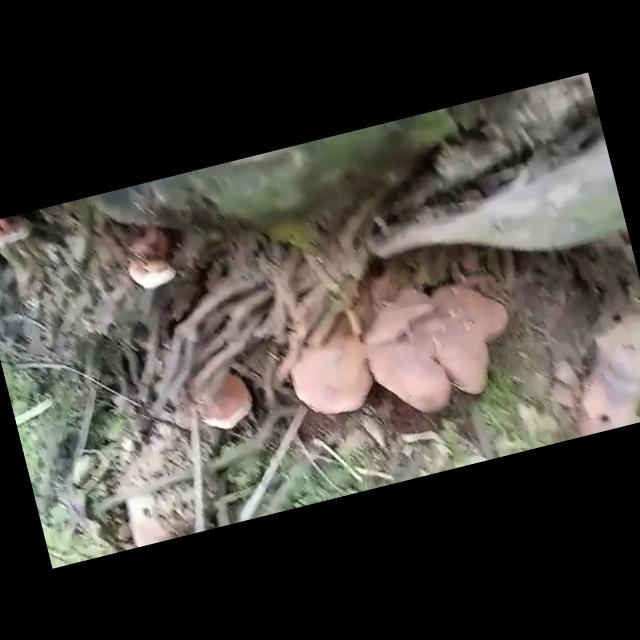ganoderma: (352, 266, 531, 429), (283, 335, 383, 428), (190, 368, 260, 437), (124, 248, 181, 295)
